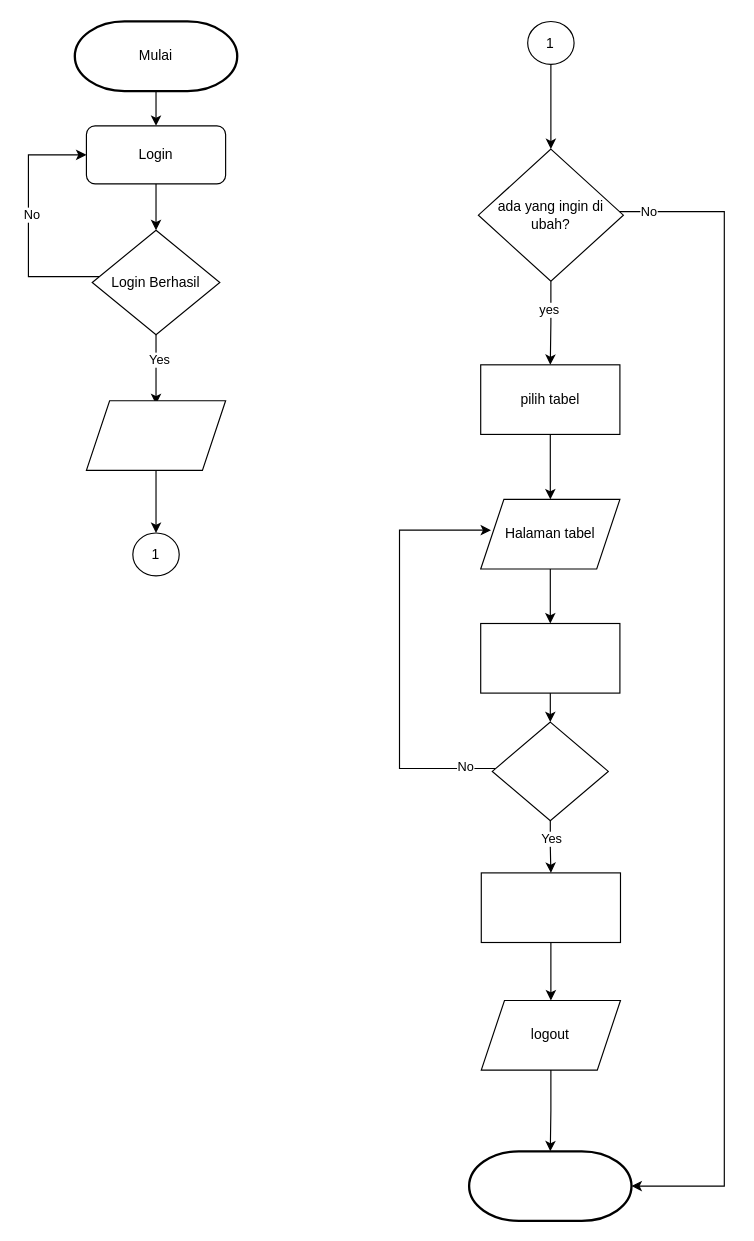
This 754x1241 diagram has some shape labels left out. The centre of each missing label's shape, as x and y in pixels:
"data berhasil diubah?" goes at point 549,771.
"kembali ke halaman tabel yang dipilih" goes at point 550,907.
"mengolah tabel" goes at point 550,657.
"Selesai" goes at point 549,1185.
"tampilan Halaman admin" goes at point 155,435.
